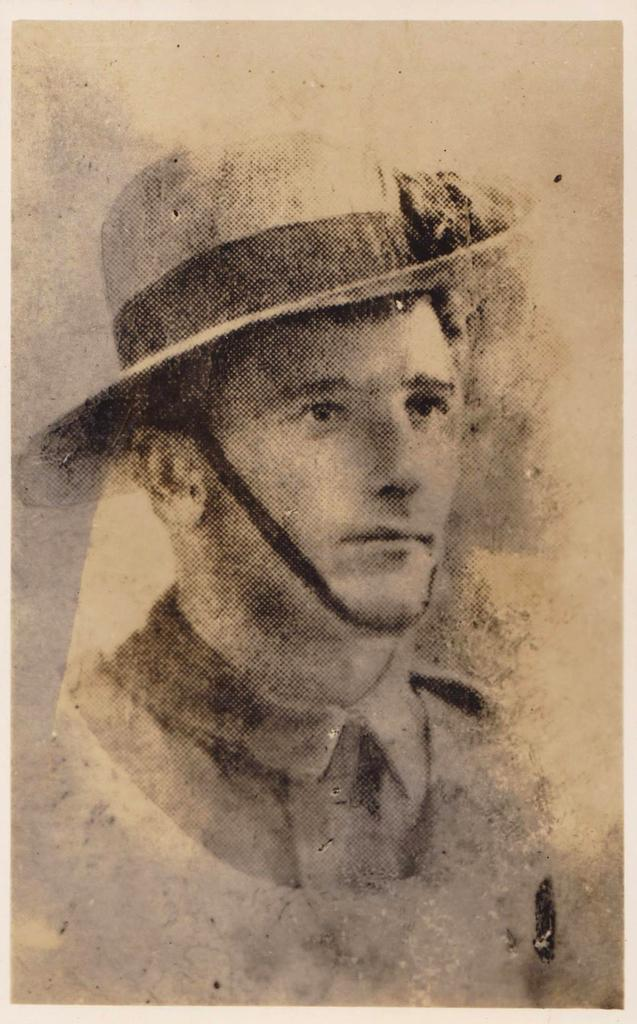Hat: (12, 132, 526, 504)
